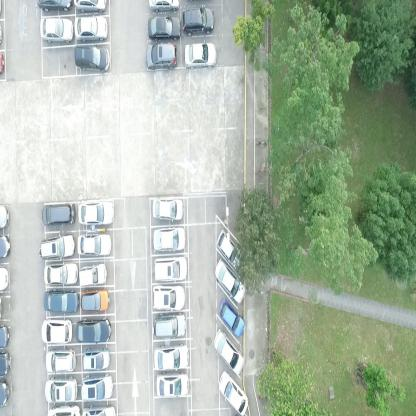car: (212, 328, 244, 373), (214, 260, 246, 304), (217, 372, 249, 415), (153, 341, 190, 372), (217, 298, 244, 338), (37, 232, 74, 261), (73, 46, 110, 73), (80, 372, 113, 402), (145, 42, 179, 71), (39, 16, 74, 44), (216, 229, 240, 269), (181, 8, 214, 37), (76, 317, 112, 343), (40, 320, 74, 347), (45, 377, 79, 404), (147, 16, 182, 42), (74, 16, 109, 42), (78, 200, 114, 225), (152, 226, 186, 252), (184, 43, 218, 69), (44, 260, 79, 285), (77, 233, 112, 258), (41, 202, 75, 227), (151, 285, 186, 309), (43, 288, 79, 311), (152, 257, 186, 281), (157, 372, 188, 398), (153, 313, 185, 338), (82, 346, 110, 373), (79, 261, 108, 287), (152, 196, 184, 219), (44, 349, 76, 372), (80, 288, 110, 311), (73, 0, 109, 15), (36, 0, 74, 14), (82, 402, 117, 415), (149, 0, 181, 12), (47, 404, 80, 415), (0, 231, 12, 261), (0, 378, 9, 408), (0, 266, 11, 290), (0, 203, 9, 231), (0, 351, 10, 374), (0, 326, 9, 348)
